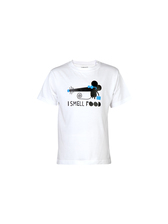clothoes: (40, 58, 129, 169)
